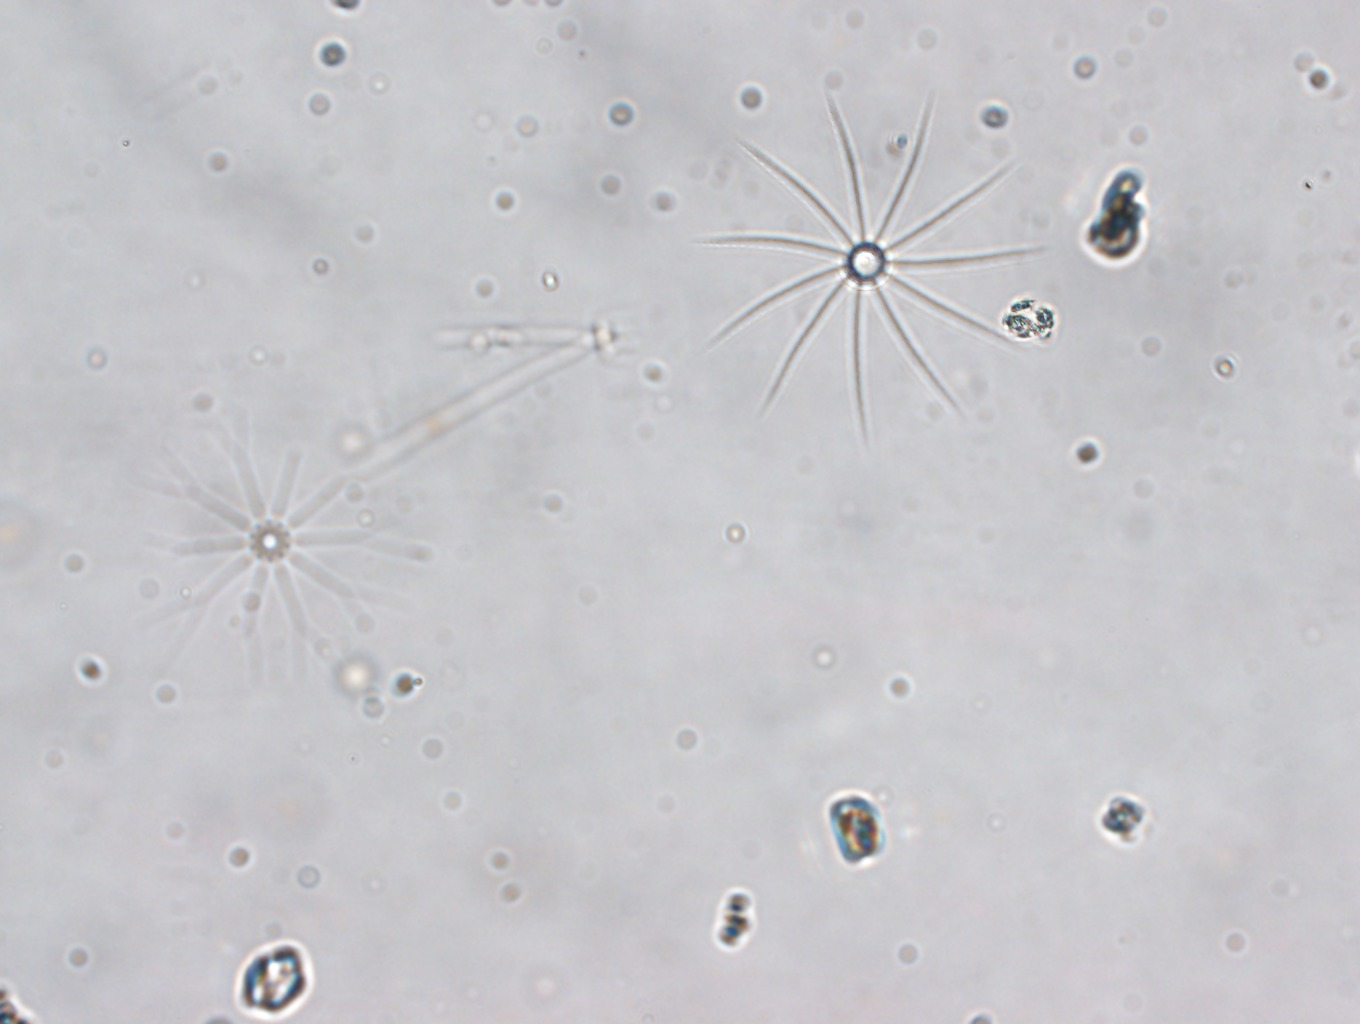bacteriastrum: (692, 85, 1051, 445), (125, 403, 425, 691)
